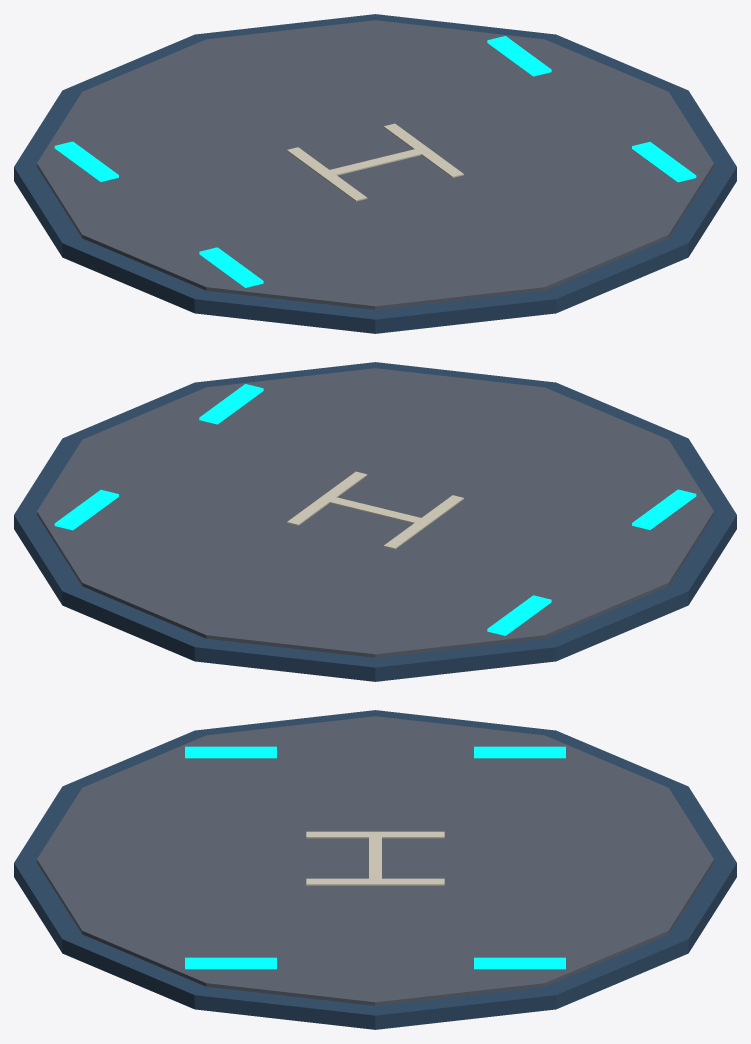
The model's file is landing-pad.glb.
3 renders of one model, top to bottom at view 1: azimuth 30°, elevation 25°; view 2: azimuth 150°, elevation 25°; view 3: azimuth 270°, elevation 25°, orthographic.
Parts seen in each view (by area): view 1: pad_deck, pad_foundation, pad_marker_3.8-2.2, pad_marker_3.82.2, pad_marker_-3.8-2.2, pad_marker_-3.82.2, pad_H_-0.85, pad_H_0.85, pad_H_cross; view 2: pad_deck, pad_foundation, pad_marker_3.82.2, pad_marker_3.8-2.2, pad_marker_-3.82.2, pad_marker_-3.8-2.2, pad_H_-0.85, pad_H_0.85, pad_H_cross; view 3: pad_deck, pad_foundation, pad_marker_3.8-2.2, pad_marker_3.82.2, pad_marker_-3.8-2.2, pad_marker_-3.82.2, pad_H_0.85, pad_H_-0.85, pad_H_cross.
Boxes of the visible parts, x1,y1,x2,y2 form: pad_deck: (37, 20, 713, 309); pad_foundation: (14, 14, 736, 333); pad_marker_3.8-2.2: (632, 142, 696, 182); pad_marker_3.82.2: (487, 36, 551, 76); pad_marker_-3.8-2.2: (199, 247, 263, 287); pad_marker_-3.82.2: (54, 141, 118, 181); pad_H_-0.85: (287, 147, 367, 201); pad_H_0.85: (383, 123, 463, 177); pad_H_cross: (324, 148, 422, 175); pad_deck: (37, 368, 713, 657); pad_foundation: (14, 362, 736, 681); pad_marker_3.82.2: (54, 490, 118, 530); pad_marker_3.8-2.2: (199, 384, 263, 424); pad_marker_-3.82.2: (487, 595, 551, 635); pad_marker_-3.8-2.2: (632, 489, 696, 529); pad_H_-0.85: (383, 495, 463, 549); pad_H_0.85: (287, 471, 367, 525); pad_H_cross: (328, 496, 426, 523); pad_deck: (37, 716, 713, 1005); pad_foundation: (14, 710, 736, 1029); pad_marker_3.8-2.2: (185, 957, 276, 969); pad_marker_3.82.2: (474, 957, 565, 969); pad_marker_-3.8-2.2: (185, 746, 276, 758); pad_marker_-3.82.2: (474, 746, 565, 758); pad_H_0.85: (306, 878, 444, 885); pad_H_-0.85: (306, 831, 444, 838); pad_H_cross: (369, 834, 381, 881).
Bounding box in the file's own units: 11 × 0.345 × 11.
